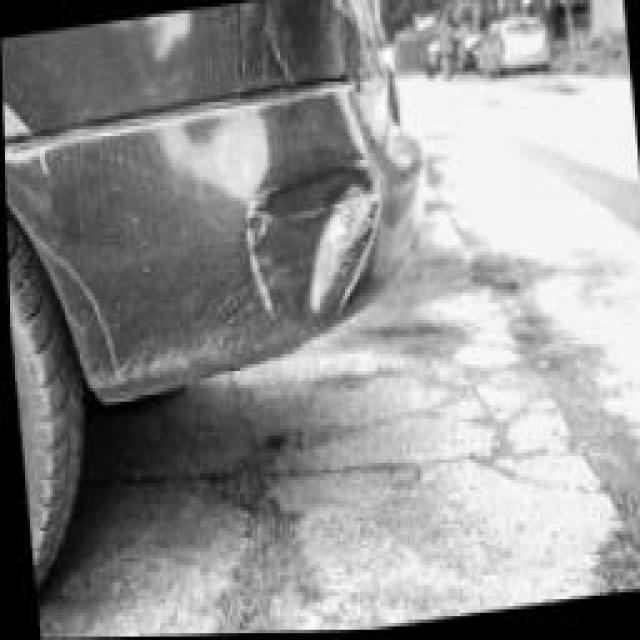Bumper: (105, 75, 408, 381)
